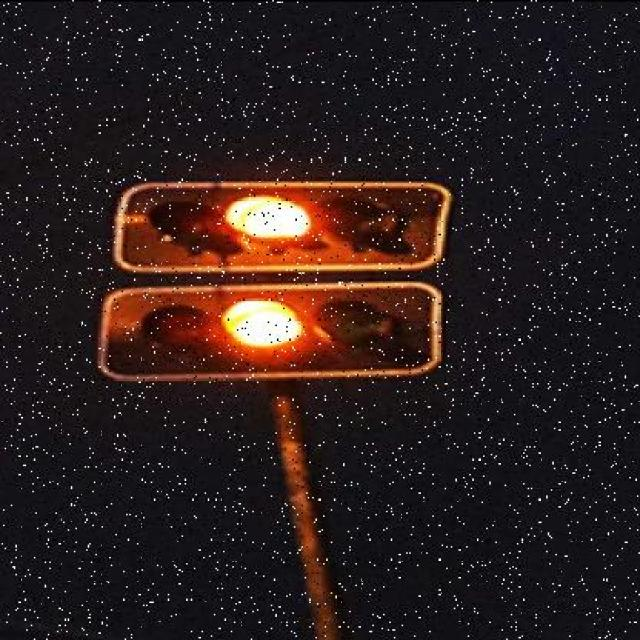yellow-light: (94, 286, 453, 382), (111, 180, 453, 272)
